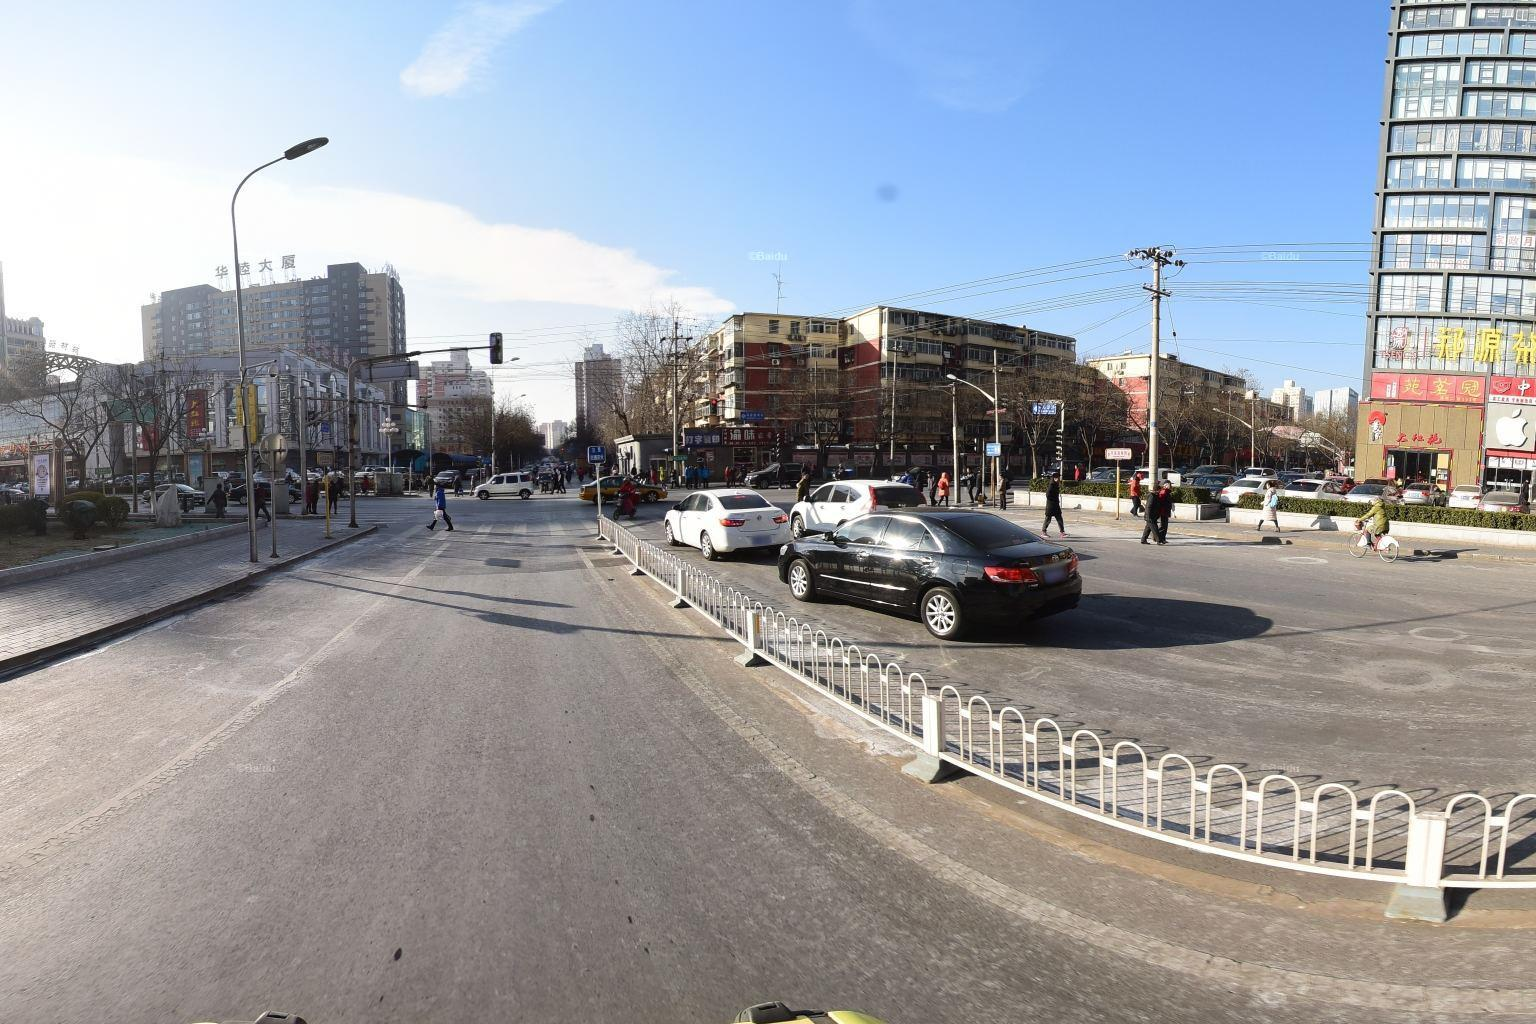trafficsign: (485, 329, 507, 368), (587, 442, 609, 469), (985, 438, 1003, 459)
